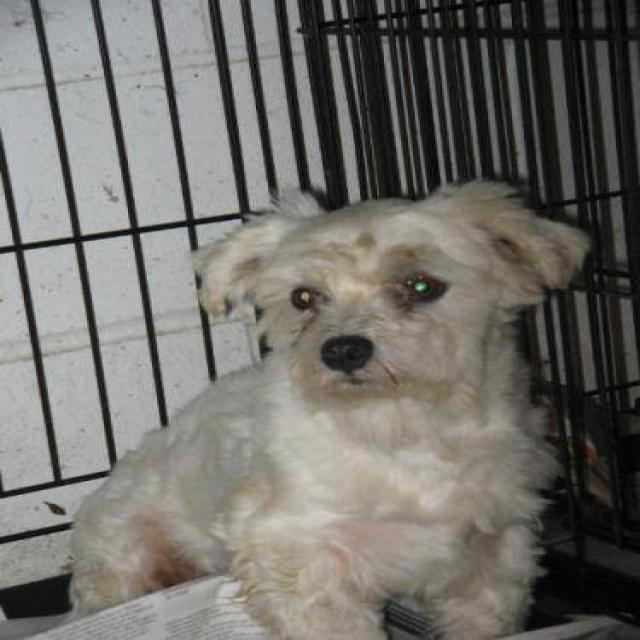dog: (60, 176, 594, 638)
